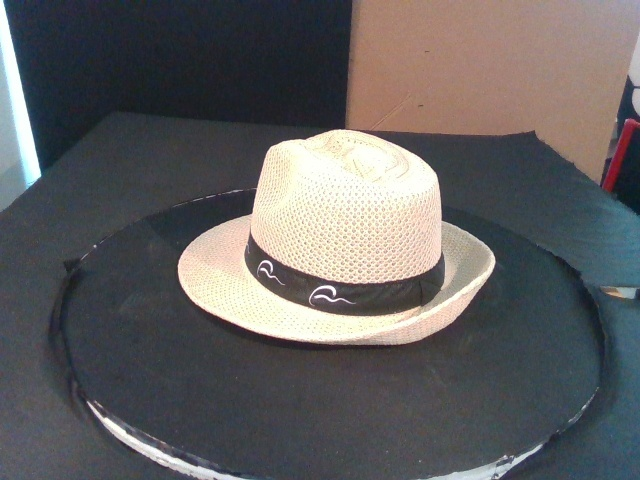hat: (177, 129, 497, 348)
